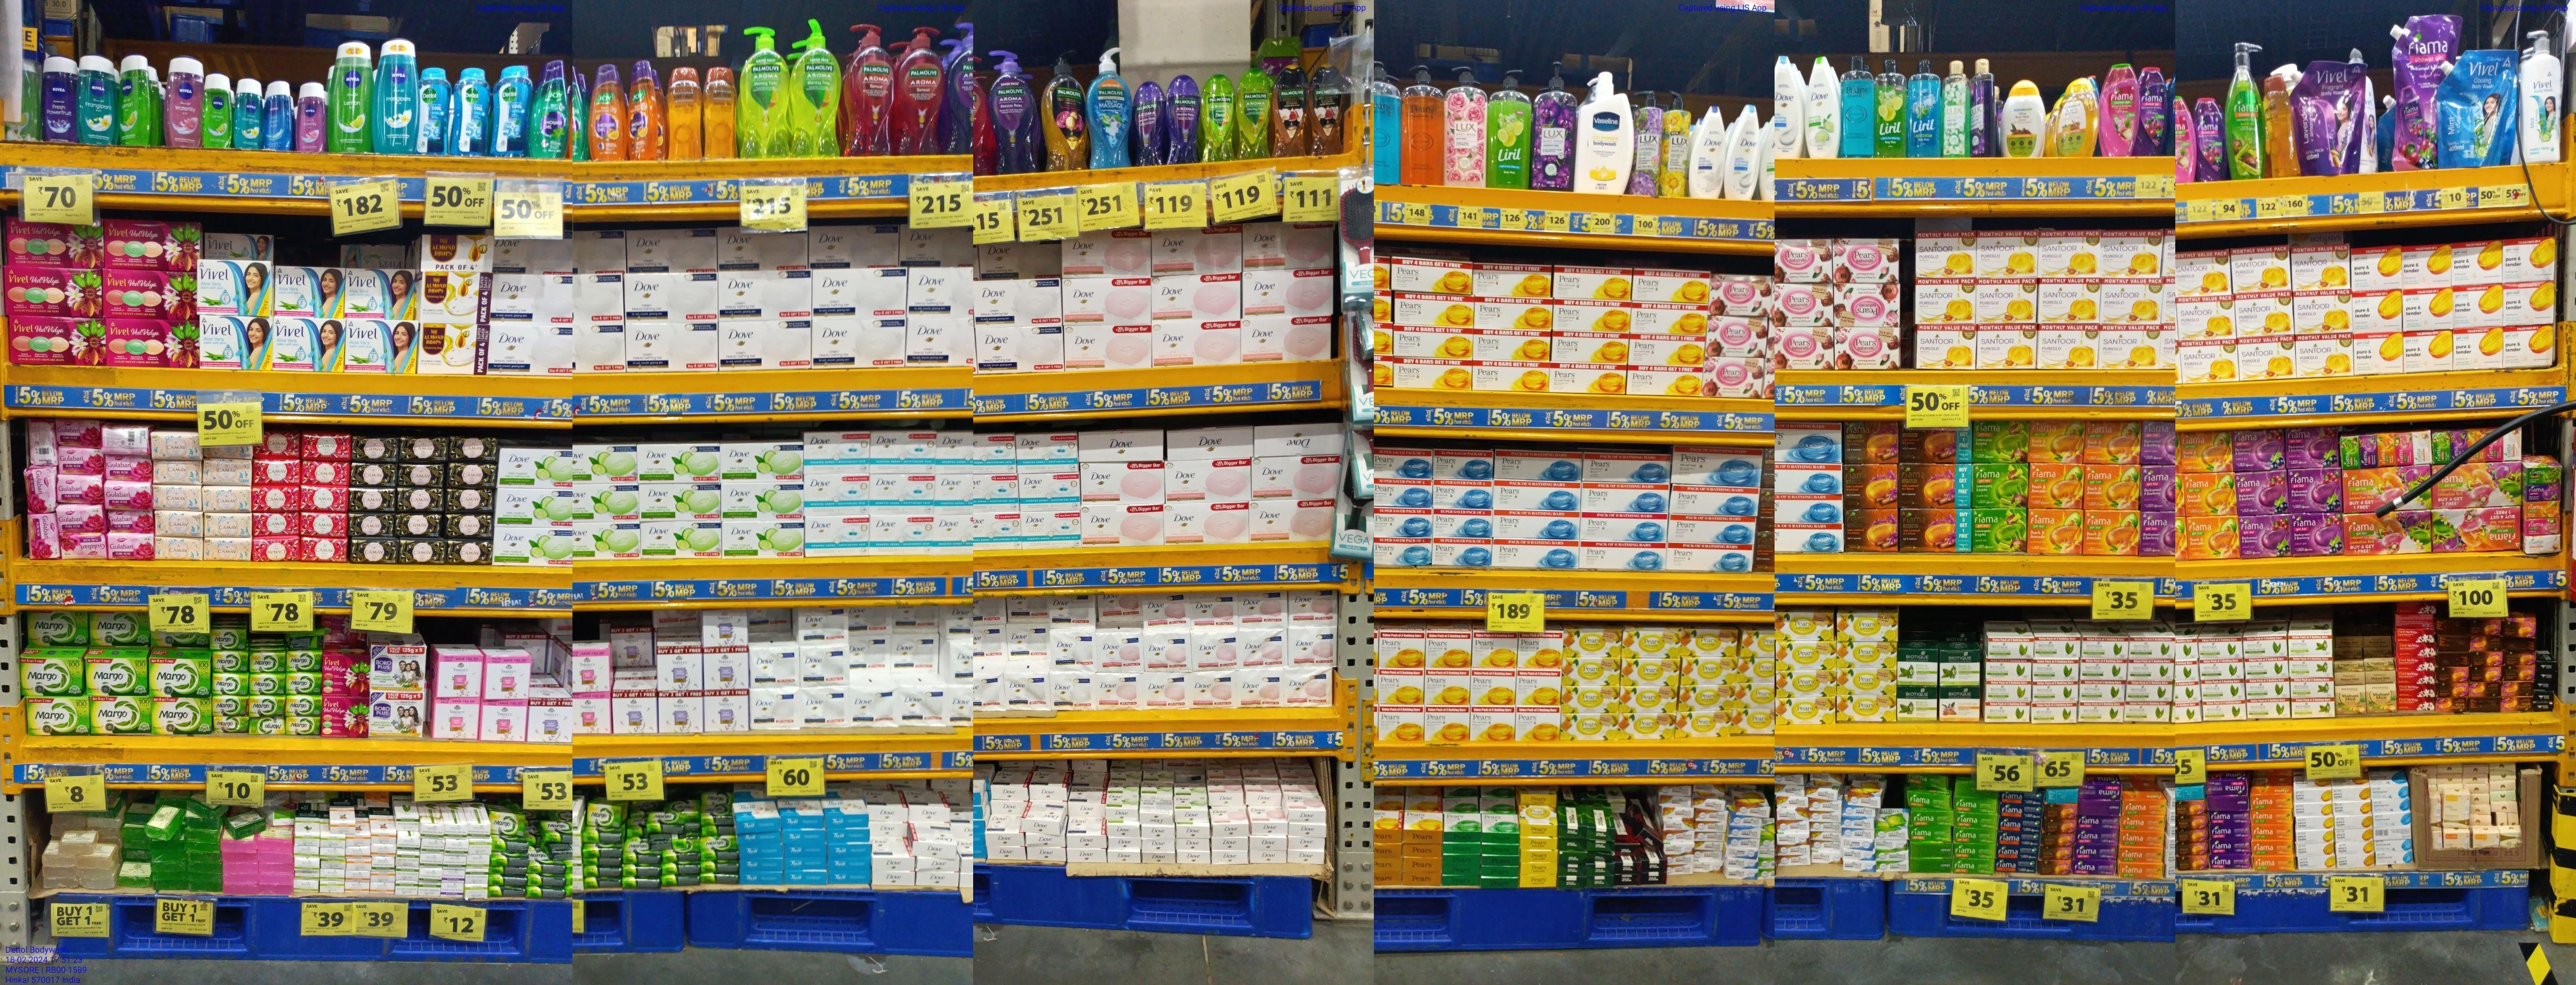Dettol_Bodywash_Cool: (455, 66, 490, 156), (419, 67, 452, 160), (494, 64, 526, 156)
Dove_Deep_Moisture_Body_Wash_250ML: (1690, 105, 1723, 197)
Dove_Gentle_Exfoliating_Body_Wash_250ML: (1725, 102, 1761, 199), (1774, 54, 1805, 158)
Dove_Refreshing_Body_Wash_250ML: (1807, 54, 1840, 160)
Fiama_Shower_Gel_Patchouli_and_Macadamia_250ML: (2100, 62, 2141, 158)
Get_Real_Shower_Gel_Moisturising_Glycerin_300ML: (667, 67, 703, 160), (703, 64, 738, 158)
Joy_Shower_Gel_Mandarin_and_Lemongrass_250ML: (590, 64, 624, 161), (628, 62, 657, 161)
Joy_Shower_Gel_Mint_and_Eucalyptus_250ML: (531, 59, 567, 158)
Liril_Cooling_Mint_Body_Wash_250ML: (1909, 59, 1940, 158)
Liril_Lime_and_Tea_Tree_Oil_Body_Wash_250ML: (1874, 58, 1906, 158)
Lux_Body_Wash_Skin_Detox_Freesia_Scent_and_Alove_Vera_245ML: (1942, 59, 1971, 156)
Nivea_Shower_Gel_Frangipani_and_Oil_250ML: (376, 36, 421, 155), (80, 54, 117, 145)
Nivea_Shower_Gel_Fresh_Powerfruit_250ML: (41, 56, 77, 143)
Nivea_Shower_Gel_Lemon_and_Oil_250ML: (333, 44, 373, 156), (122, 53, 151, 151)
Nivea_Shower_Gel_Waterlily_and_Oil_250ML: (164, 56, 202, 150)
Palmolive_Aroma_Morning_Tonic_Shower_Gel_250ML: (1235, 69, 1270, 158), (1201, 76, 1234, 163)
Palmolive_Aroma_Relax_250ML: (1166, 76, 1199, 163), (1134, 84, 1165, 163)
Palmolive_Luminous_Oils_With_White_Orchid_Shower_Gel_250ML: (1309, 66, 1344, 156), (1273, 64, 1306, 158)
Pears_Pure_Glycerin_and_Mint_Extracts_Body_Wash_250ML: (1843, 56, 1874, 160)
